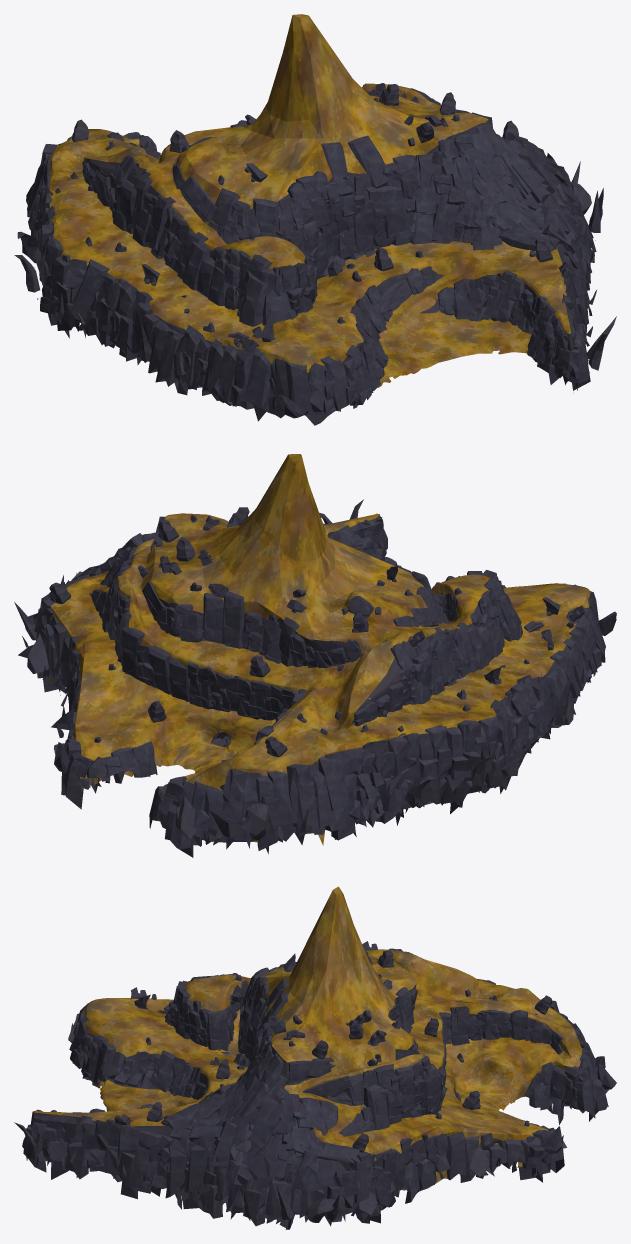
The model's file is Island03 - fisherman island.fbx.
3 views of the same model, one above another, from view 1: azimuth 30°, elevation 25°; view 2: azimuth 150°, elevation 25°; view 3: azimuth 270°, elevation 25° (orthographic). The views are drawn at different scales.
Visible parts, largest first — view 1: Island03_fisherman_island01; view 2: Island03_fisherman_island01; view 3: Island03_fisherman_island01.
Part boxes in pixels (box(x1,y1,x2,y2)): Island03_fisherman_island01: box(14, 14, 616, 425); Island03_fisherman_island01: box(14, 454, 616, 857); Island03_fisherman_island01: box(14, 886, 616, 1229).
Size of the model in its own units: 203 by 106 by 234.
2 materials, 2 textured.
